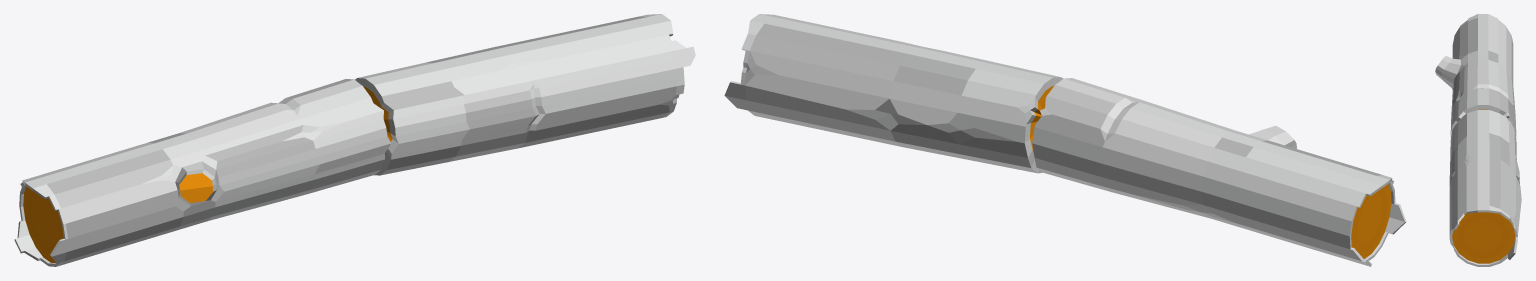
The model's file is Broken log_14.fbx.
3 renders of one model, left to right at view 1: azimuth 30°, elevation 25°; view 2: azimuth 150°, elevation 25°; view 3: azimuth 270°, elevation 25°, orthographic. The views are drawn at different scales.
Parts seen in each view (by area): view 1: Circle.206, Circle.203; view 2: Circle.206, Circle.203; view 3: Circle.203, Circle.206.
Boxes of the visible parts, x1,y1,x2,y2 form: Circle.206: [14, 79, 391, 266]; Circle.203: [354, 14, 695, 175]; Circle.206: [1032, 78, 1406, 266]; Circle.203: [724, 14, 1063, 173]; Circle.203: [1449, 110, 1521, 266]; Circle.206: [1435, 14, 1516, 136].
Bounding box in the file's own units: 221 × 33.99 × 38.98.
